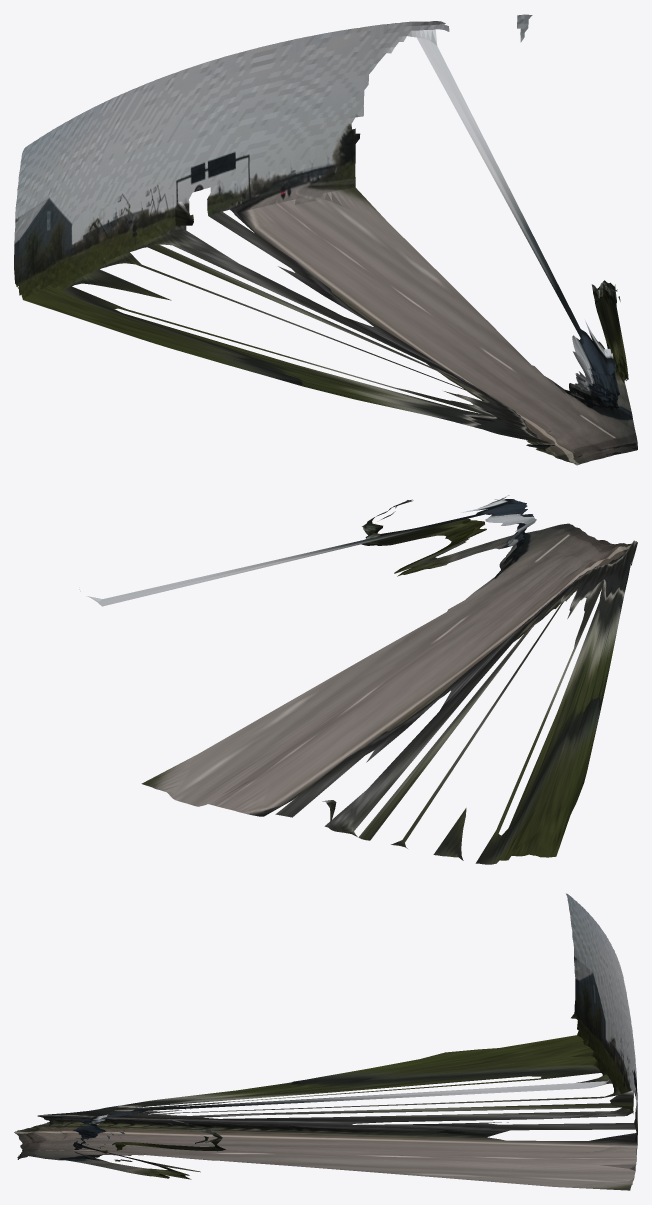
3 renders of one model, top to bottom at view 1: azimuth 30°, elevation 25°; view 2: azimuth 150°, elevation 25°; view 3: azimuth 270°, elevation 25°, orthographic. The views are drawn at different scales.
Visible parts, largest first — view 1: defaultobject; view 2: defaultobject; view 3: defaultobject.
Part boxes in pixels (left/top/right/bottom): defaultobject: left=14, top=14, right=637, bottom=465; defaultobject: left=79, top=495, right=637, bottom=864; defaultobject: left=14, top=893, right=637, bottom=1190.
Size of the model in its own units: 38.42 by 12.69 by 44.75.
1 material, 1 textured.
